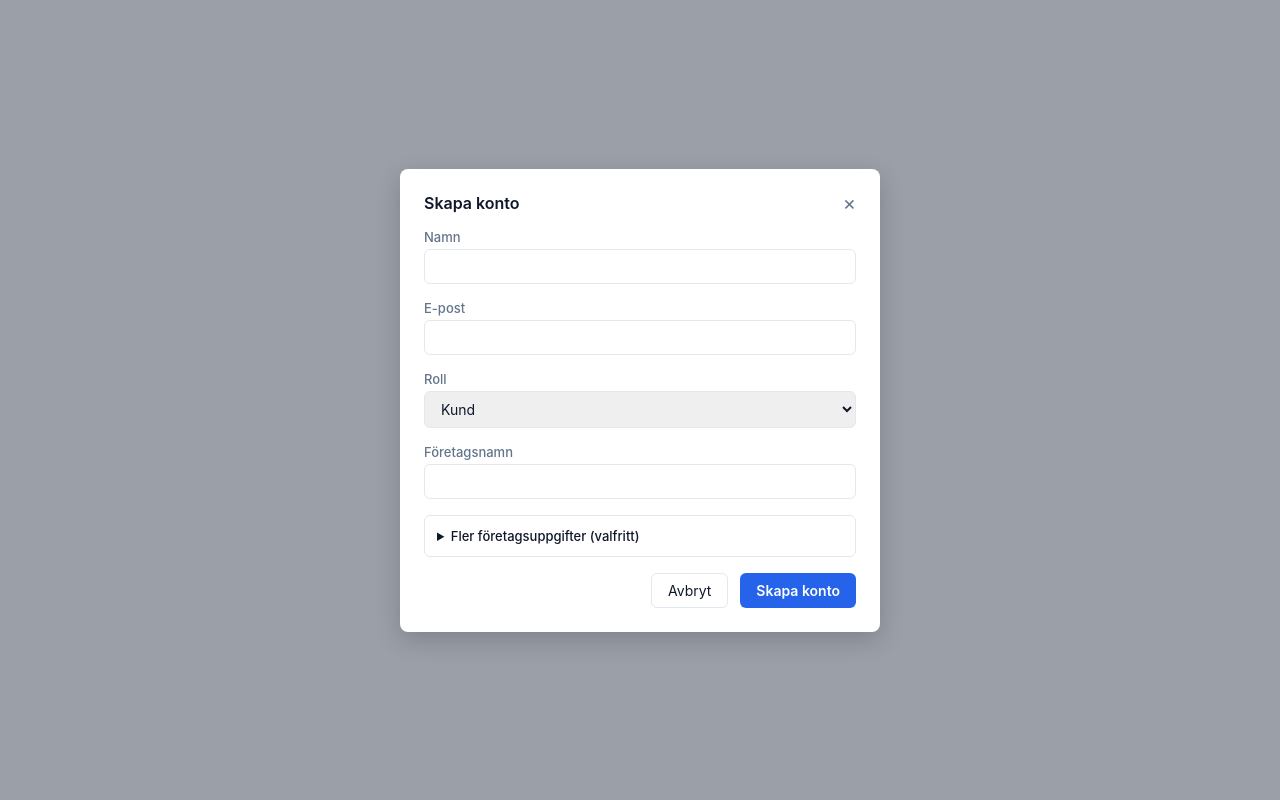
Test: CreateAccountModal › switching to role Admin shows Lösenord and hides the company fields
Select "Admin" in the dropdown labelled "Roll" at x=640, y=409, box [424,390,856,428]
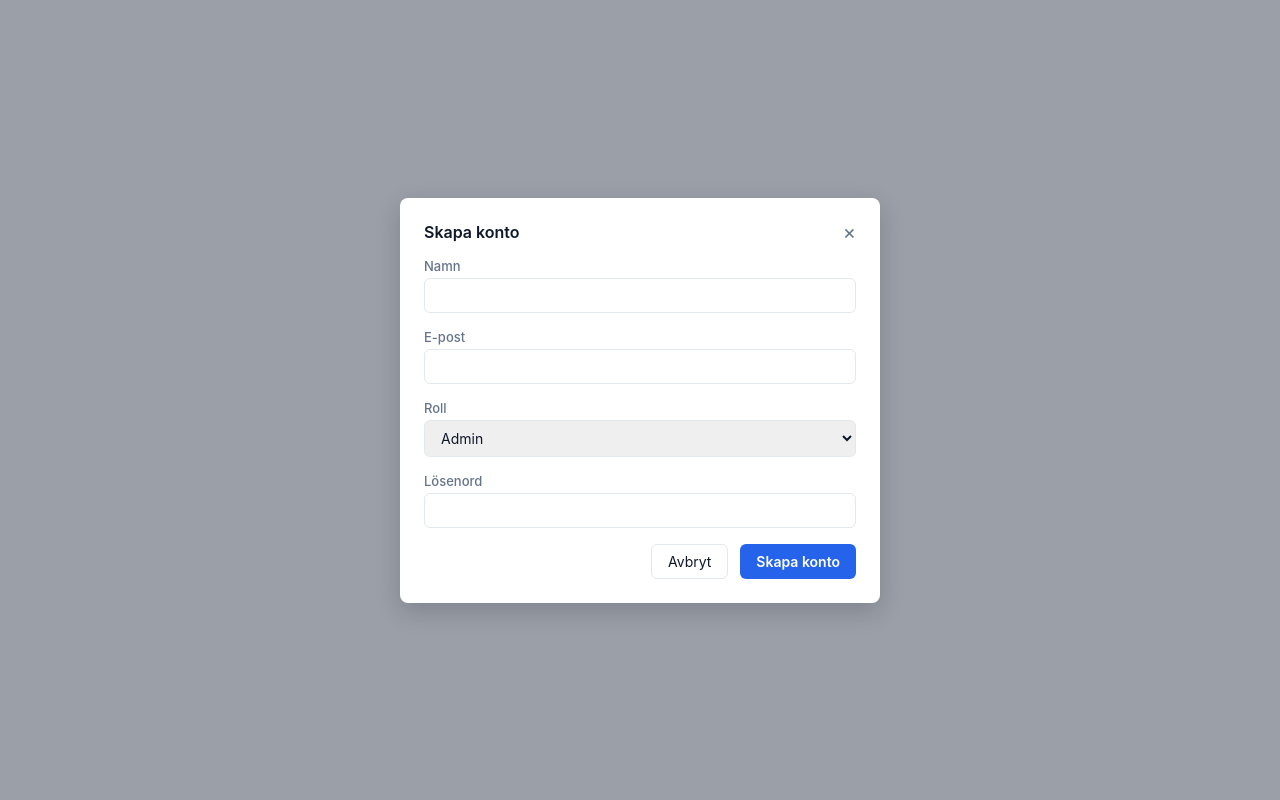
Expected: the password field labelled "Lösenord" is shown, [424,492,856,528]
Now the text labelled "Företagsnamn" is gone
Now the heading "Fler företagsuppgifter (valfritt)" is gone
